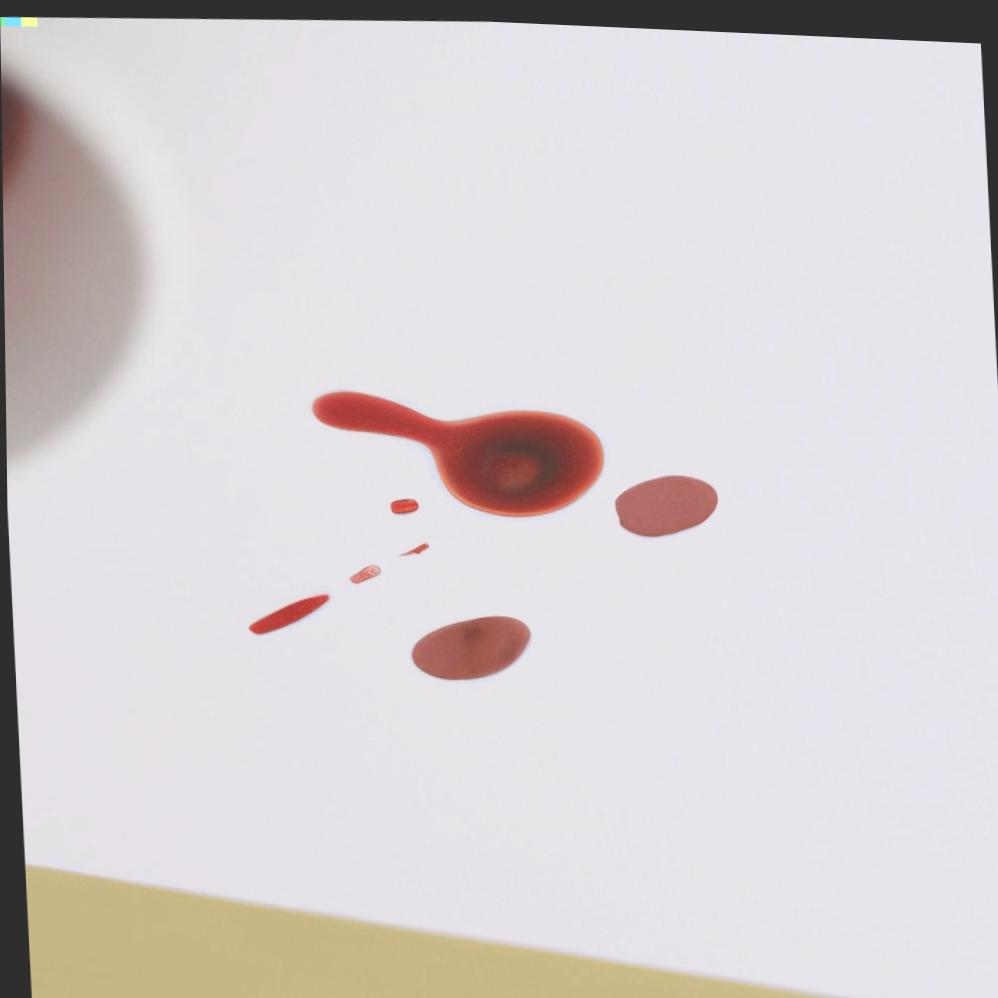Fire: (311, 388, 604, 513), (410, 612, 529, 677), (614, 469, 718, 531), (246, 591, 329, 633), (389, 495, 418, 510)
